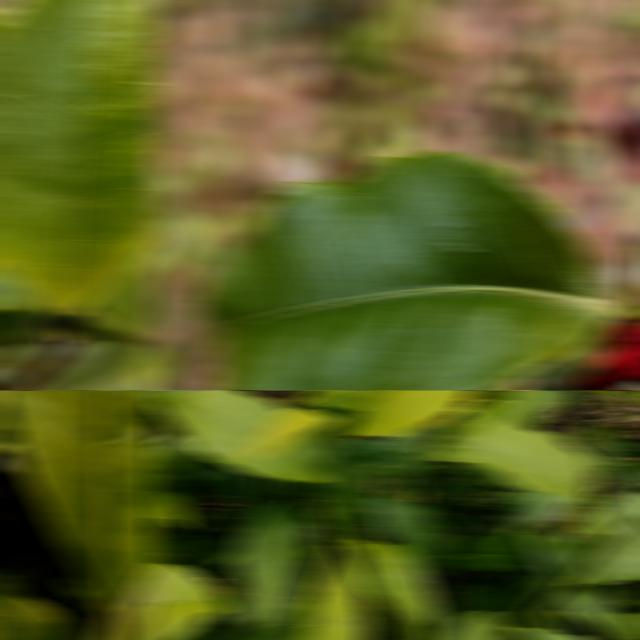Leaf: (195, 151, 627, 390), (0, 0, 159, 318), (0, 390, 159, 614), (446, 421, 603, 533), (151, 390, 328, 482), (231, 501, 313, 640), (581, 60, 640, 239), (342, 538, 440, 640), (367, 497, 454, 575), (300, 546, 371, 640), (85, 240, 159, 329), (147, 562, 231, 640), (338, 390, 476, 436), (442, 567, 537, 626), (326, 443, 378, 539), (442, 529, 550, 574), (373, 423, 439, 496), (243, 408, 337, 458), (159, 534, 241, 581), (576, 417, 626, 489), (555, 584, 617, 639), (520, 534, 585, 586), (556, 584, 617, 638), (242, 598, 317, 640), (147, 433, 202, 481), (519, 356, 594, 390), (442, 610, 523, 640), (423, 493, 487, 528), (500, 390, 557, 427), (312, 487, 345, 545), (147, 491, 191, 526), (187, 612, 238, 640), (604, 459, 640, 490), (604, 611, 640, 640), (186, 507, 222, 535), (147, 535, 171, 562)
